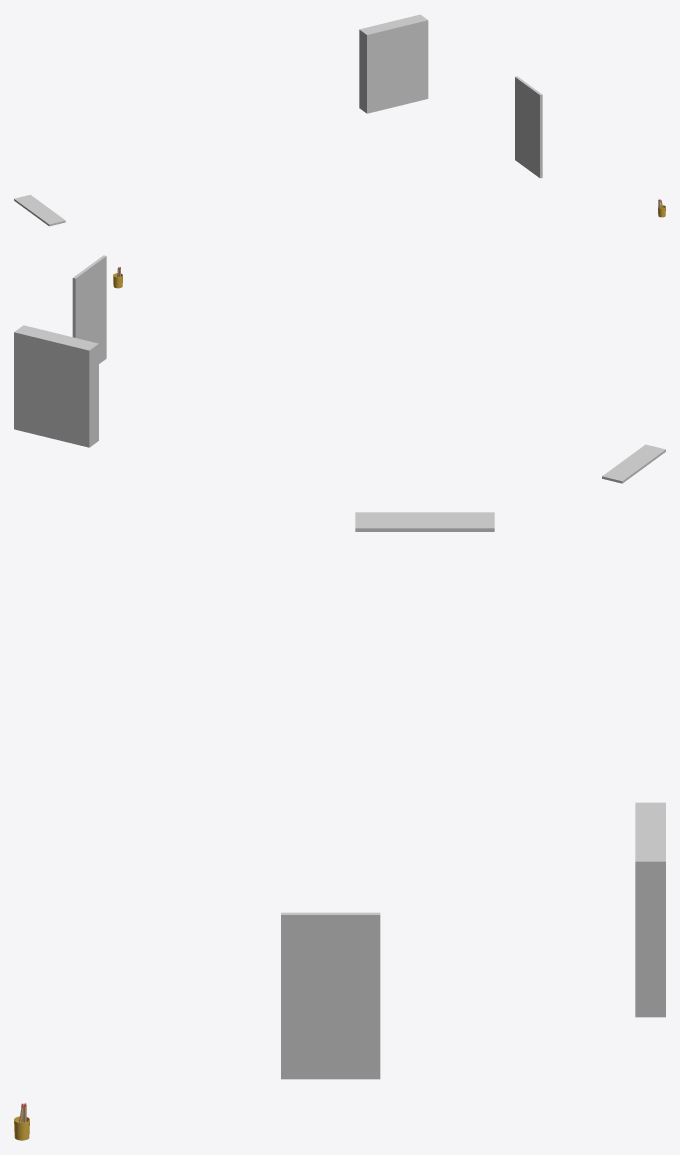
File: Pensilholder.fbx
3 renders of one model, top to bottom at view 1: azimuth 30°, elevation 25°; view 2: azimuth 150°, elevation 25°; view 3: azimuth 270°, elevation 25°, orthographic. The views are drawn at different scales.
Visible parts, largest first — view 1: Fönster, Cube.001, Hylla; view 2: Fönster, Cube.001, Hylla; view 3: Cube.001, Fönster, Hylla.
Part boxes in pixels (x1,y1,x2,y2): Fönster: (359,14,428,113); Cube.001: (515,76,542,178); Hylla: (14,194,65,226); Fönster: (14,325,98,447); Cube.001: (72,255,106,363); Hylla: (602,444,665,483); Cube.001: (281,912,380,1079); Fönster: (635,802,665,1017); Hylla: (355,512,494,531).
Size of the model in its own units: 1739 by 316 by 934.
